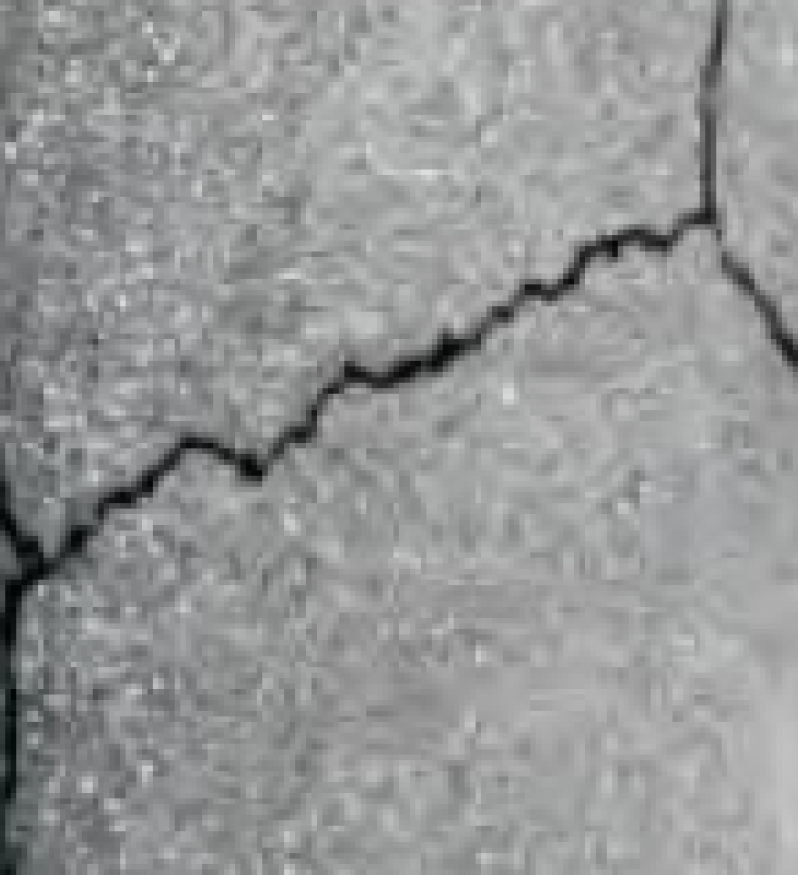Retak Melintang: (1, 16, 798, 813)
